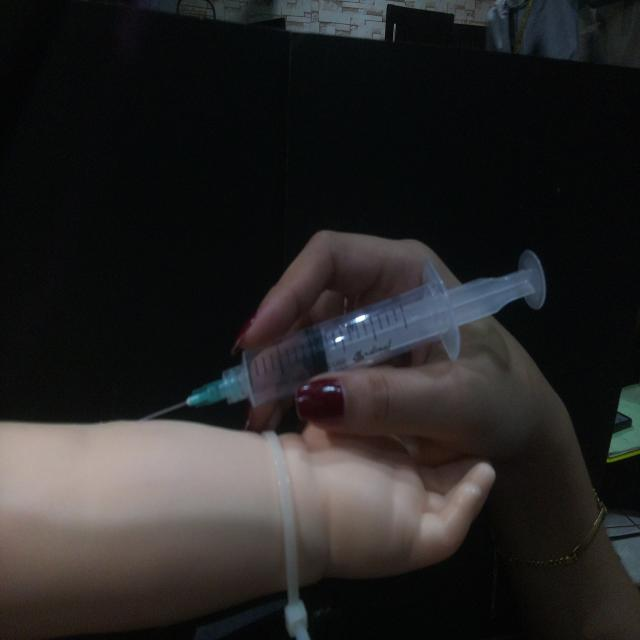18deg: (136, 244, 550, 424)
